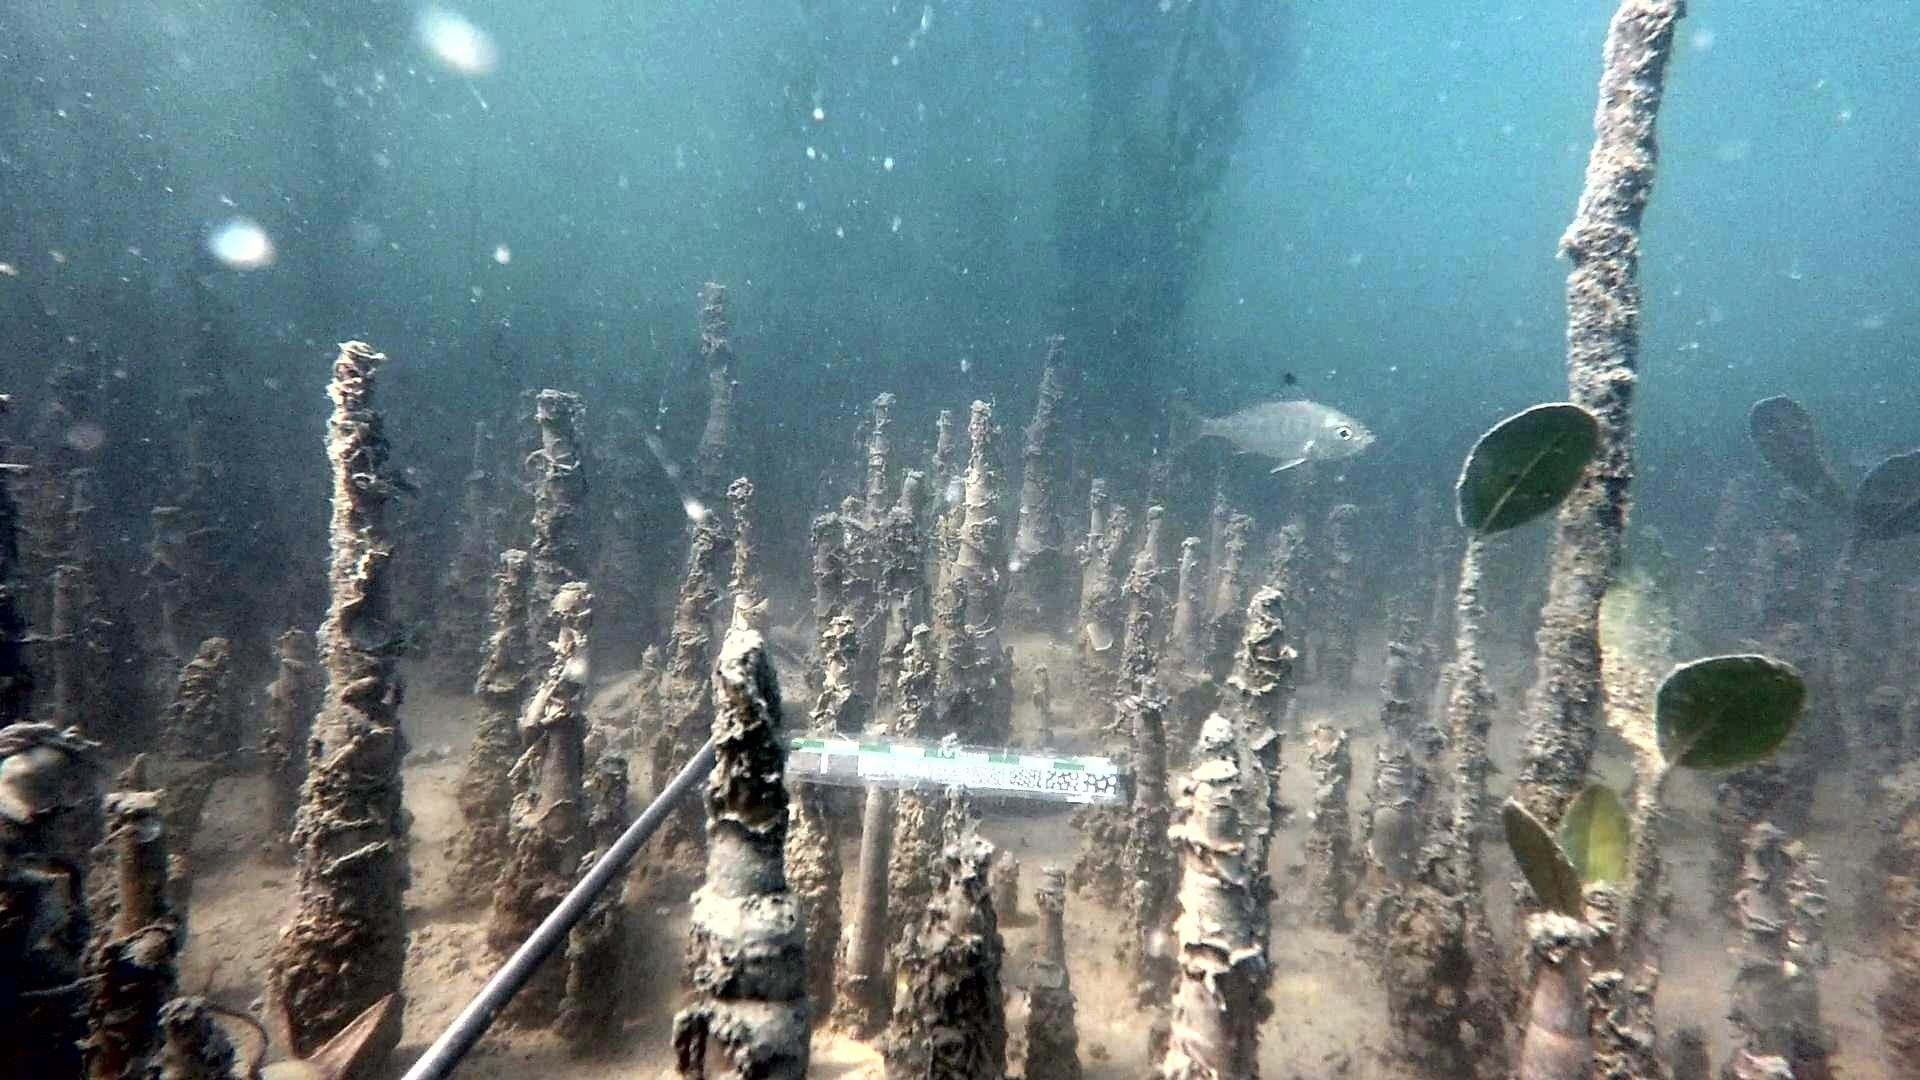gerres: (1162, 370, 1378, 475)
